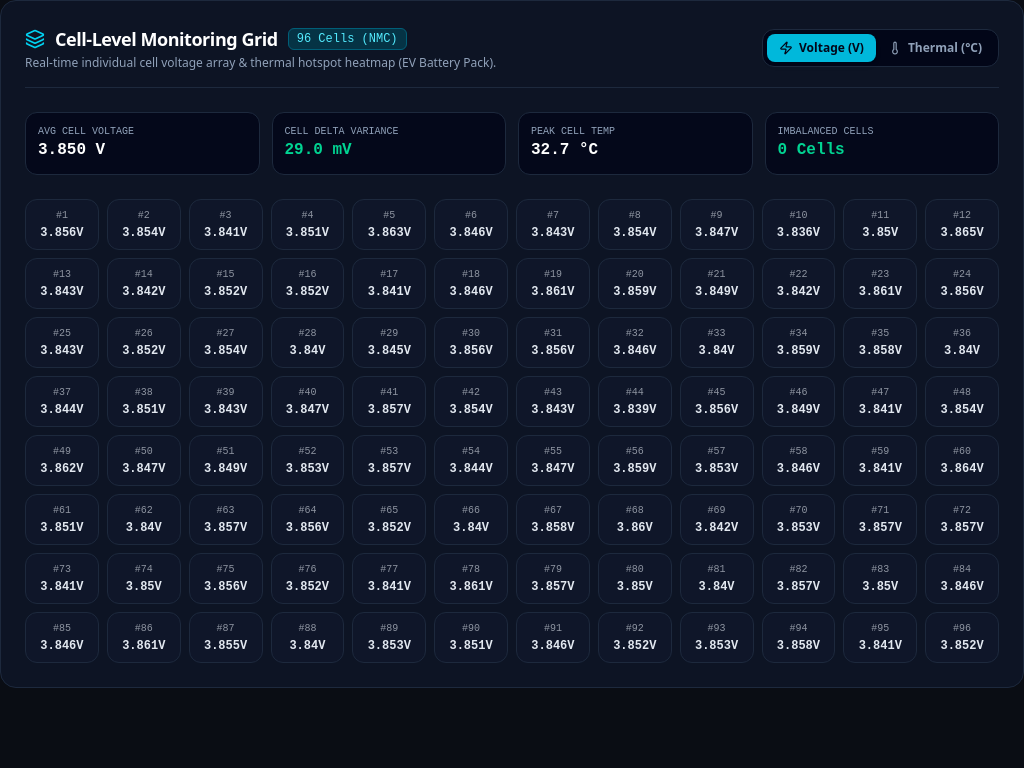
Test: CellGridMonitor Component › opens cell inspection modal on cell click
Click the button "#1 3.856V". click: (62, 225)
box: [25, 199, 99, 250]
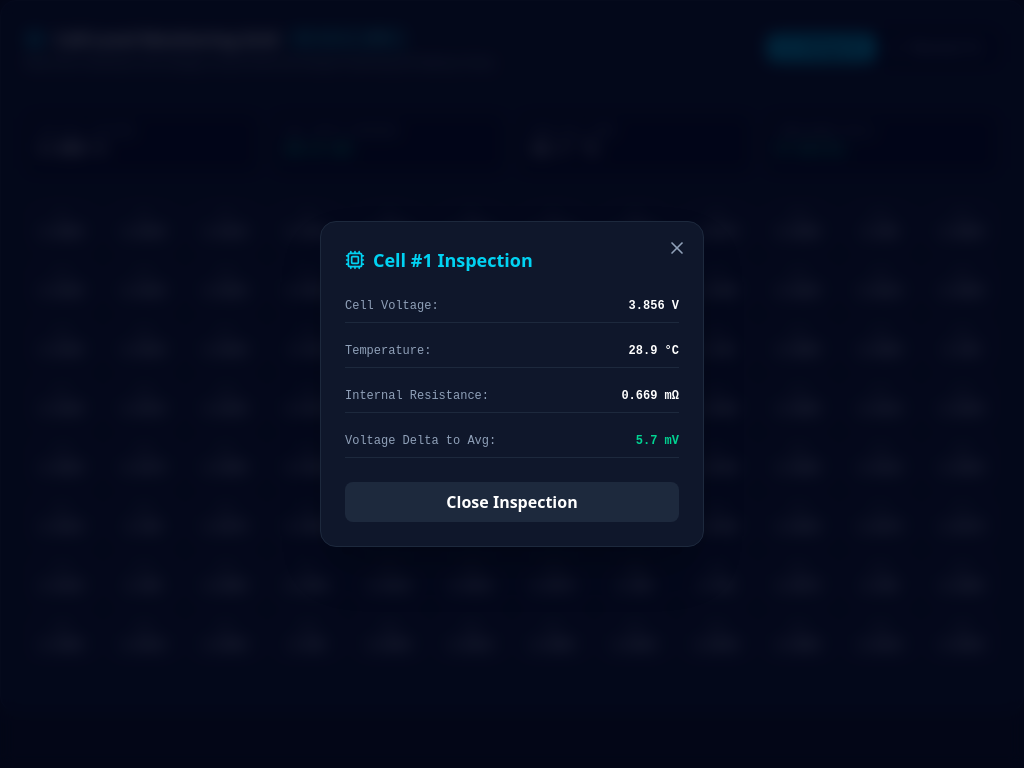
Expected: the text "Cell #1 Inspection" is shown, [373, 246, 533, 274]
